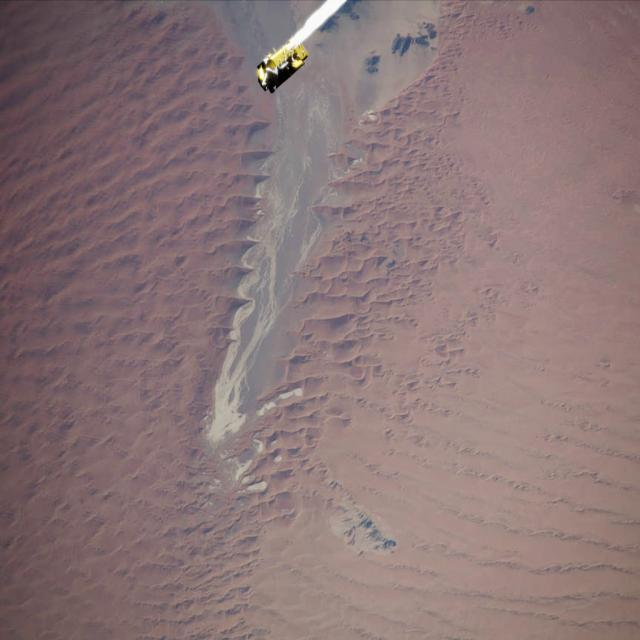satellite: (243, 0, 368, 107)
